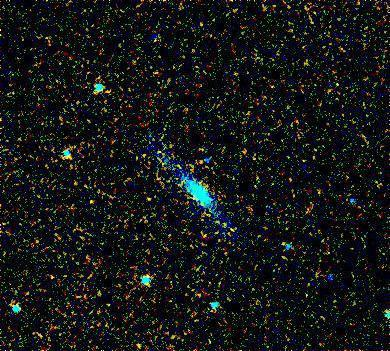star: (74, 186, 104, 216)
